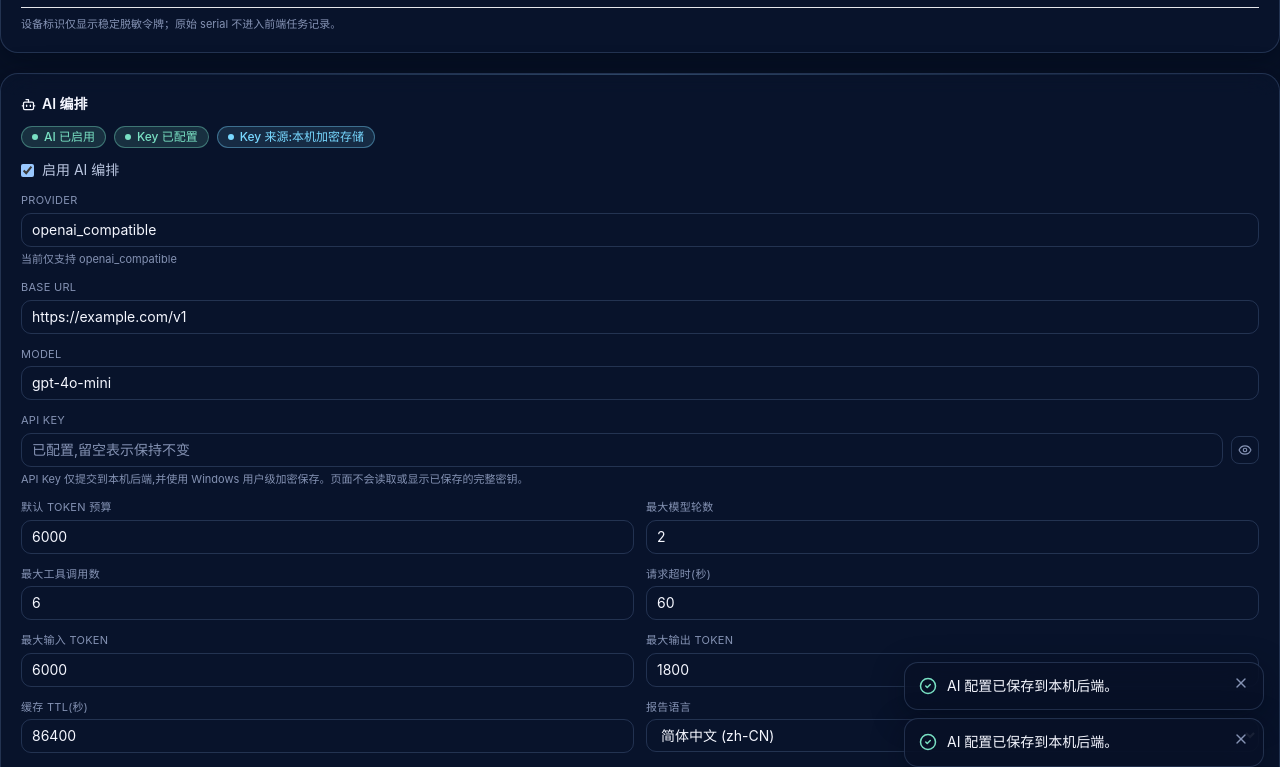
Test case: M6B — AI 配置表单 › 保存配置提交可编辑字段
The width and height of the screenshot is (1280, 767).
(page scrolled)
Expected: the element with test id "ai-settings-summary" is shown, [21, 126, 375, 148]
Replace the text in the field labelled "Model" with "edited" at (640, 383), box [21, 366, 1259, 400]
(page scrolled)
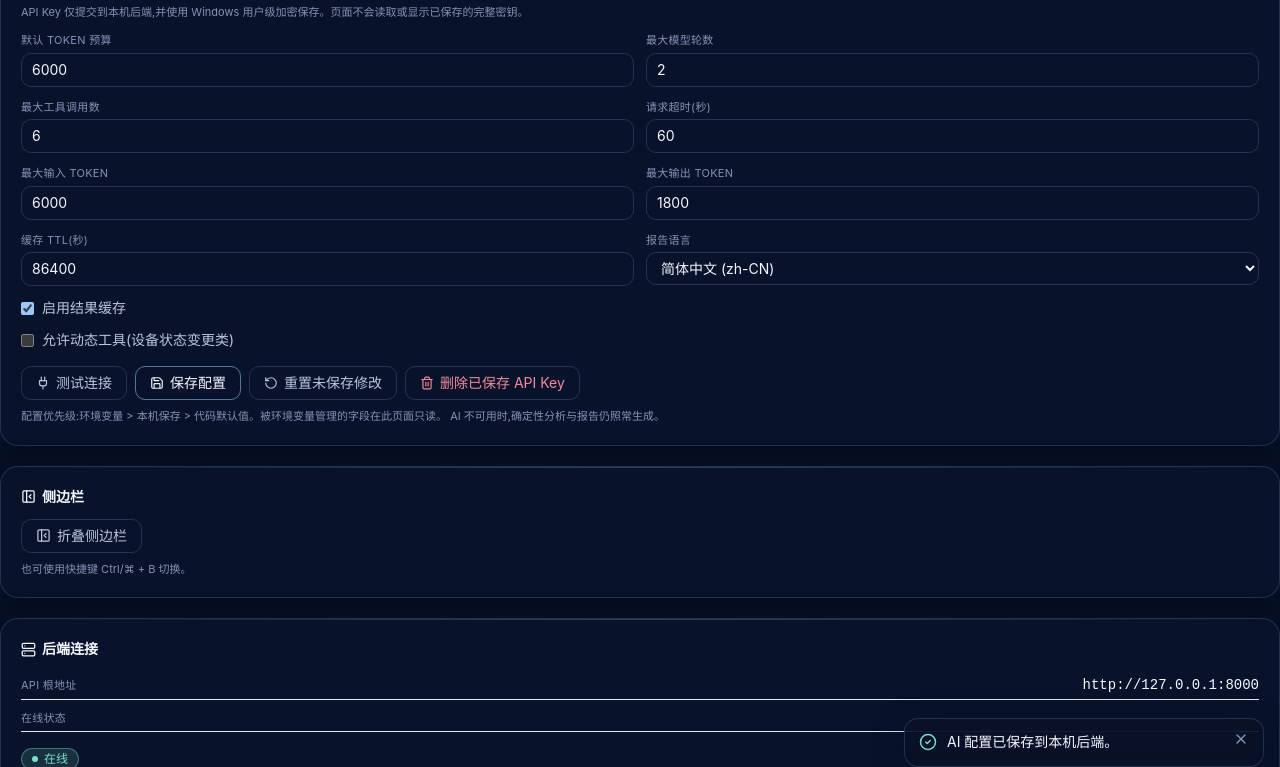
Click the button with test id "ai-settings-save" at (188, 383), box [135, 366, 241, 400]
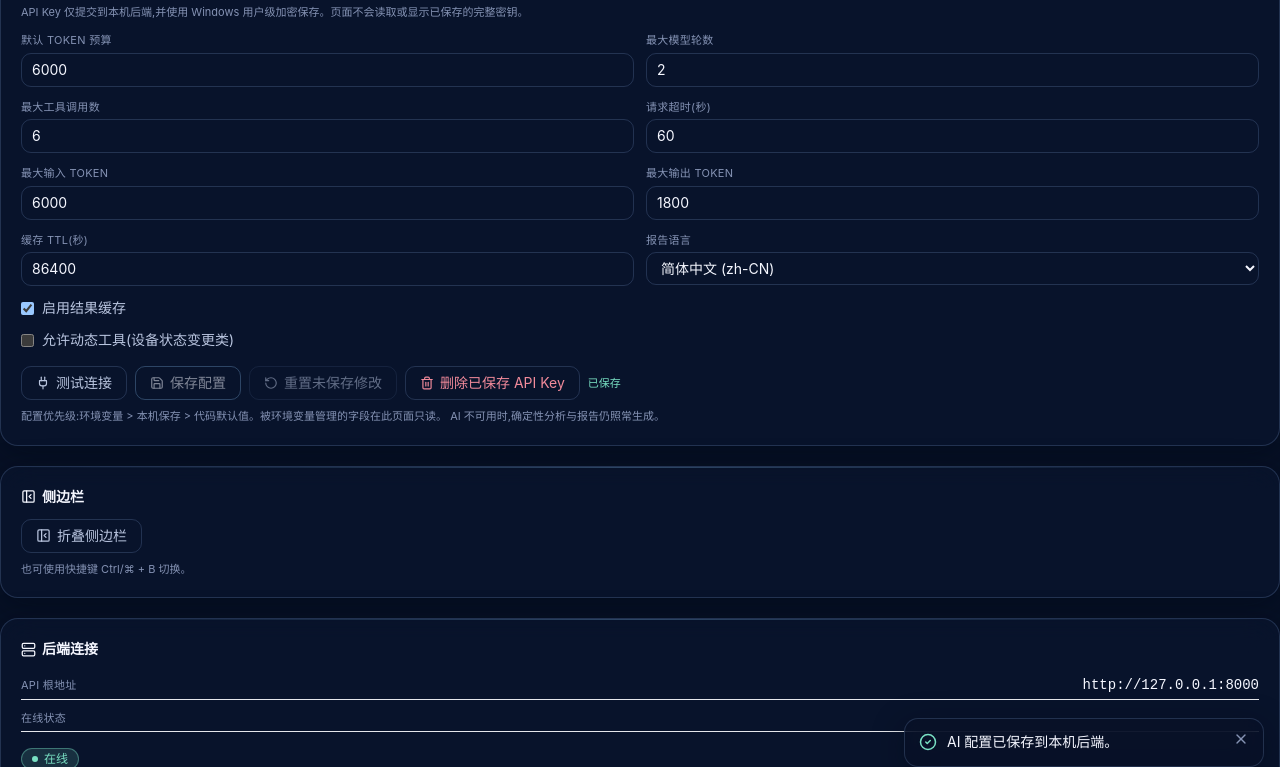
Result: the text "已保存" is shown at [588, 375, 621, 391]
